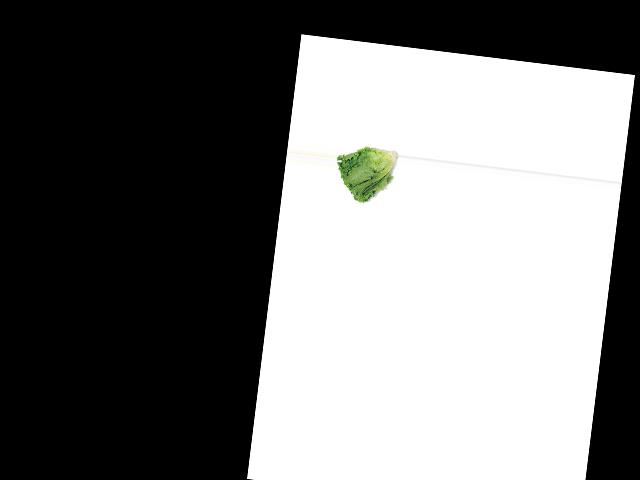lettuce: (331, 138, 400, 211)
